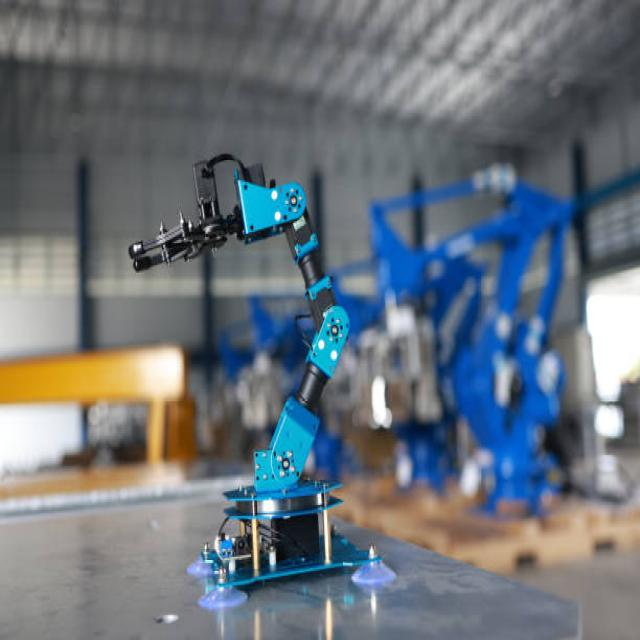Robotic-arm: (122, 143, 356, 590)
